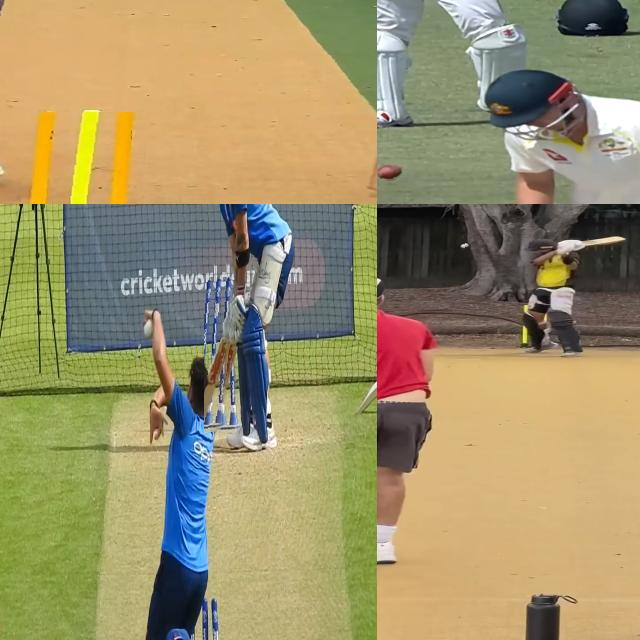Cricket ball: (377, 164, 404, 181), (142, 317, 155, 342), (459, 243, 471, 249)
Stumps: (20, 111, 151, 204), (204, 277, 237, 434)
